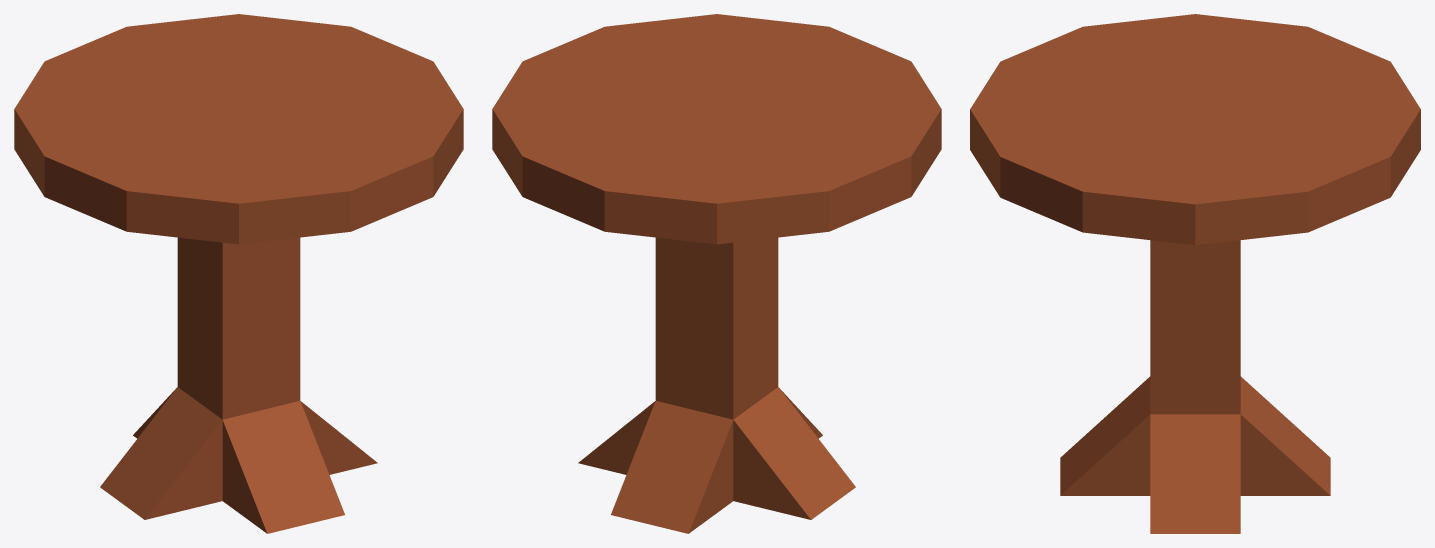
Rendered from Prop_Furniture_Fantasy_Dungeon_Table_Wooden_Small_03.FBX.
The picture shows the model from 3 angles, left to right: view 1: azimuth 30°, elevation 25°; view 2: azimuth 150°, elevation 25°; view 3: azimuth 270°, elevation 25°; orthographic projection.
Parts seen in each view (by area): view 1: Prop_Furniture_Fantasy_Dungeon_Table_Wooden_Small_03; view 2: Prop_Furniture_Fantasy_Dungeon_Table_Wooden_Small_03; view 3: Prop_Furniture_Fantasy_Dungeon_Table_Wooden_Small_03.
Part boxes in pixels (bbox=[...]): Prop_Furniture_Fantasy_Dungeon_Table_Wooden_Small_03: bbox=[14, 14, 463, 533]; Prop_Furniture_Fantasy_Dungeon_Table_Wooden_Small_03: bbox=[492, 14, 941, 533]; Prop_Furniture_Fantasy_Dungeon_Table_Wooden_Small_03: bbox=[970, 14, 1420, 533].
Bounding box in the file's own units: 403 × 363 × 403.
